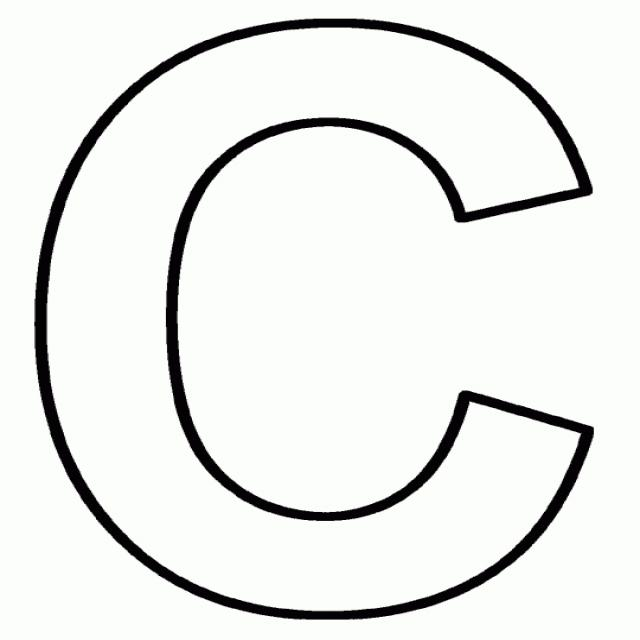C: (1, 10, 633, 640)
